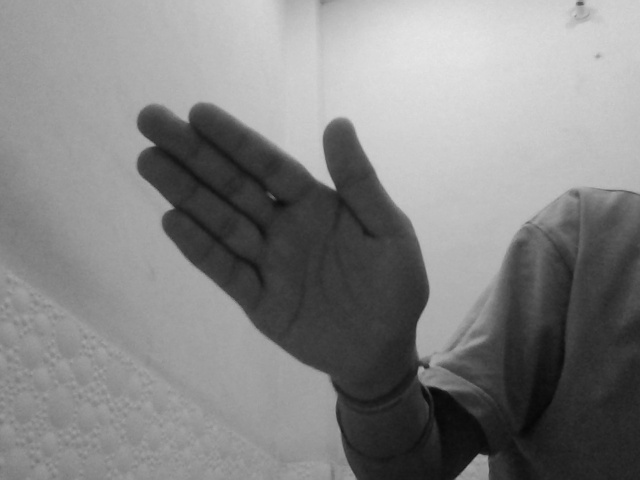Hello: (131, 101, 431, 375)
